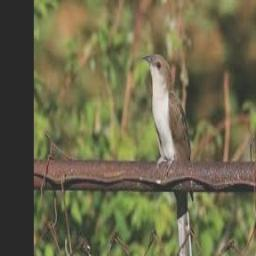Cuckoo: (142, 54, 193, 256)
